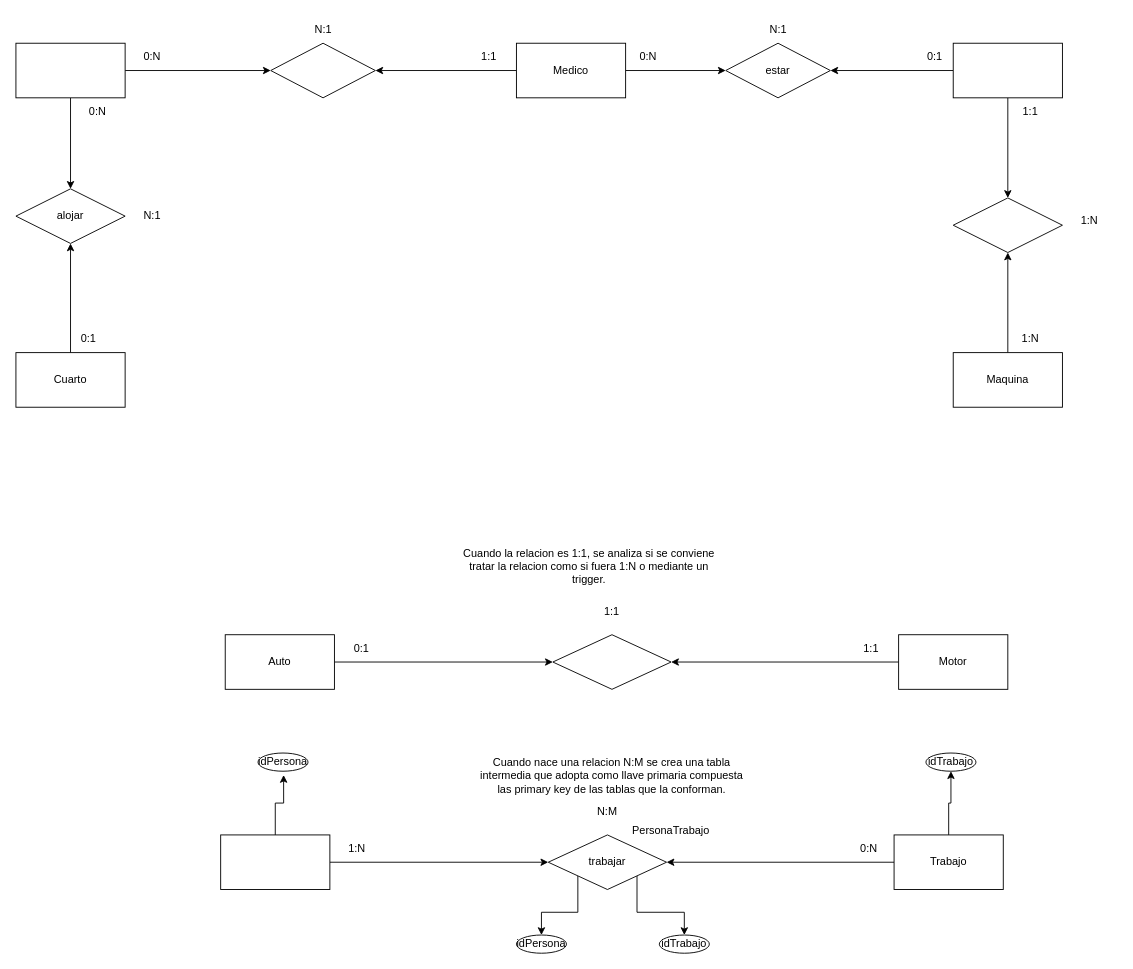
The diagram is 1133 pixels wide and 969 high, and some of its shapes have lost their labels. Here are the shapes that lost their labels. From the top down, the centre of each, then its label:
(70,70): Paciente
(322,70): atender
(1007,70): Salas
(1007,225): contener
(611,661): tener
(275,862): Persona
